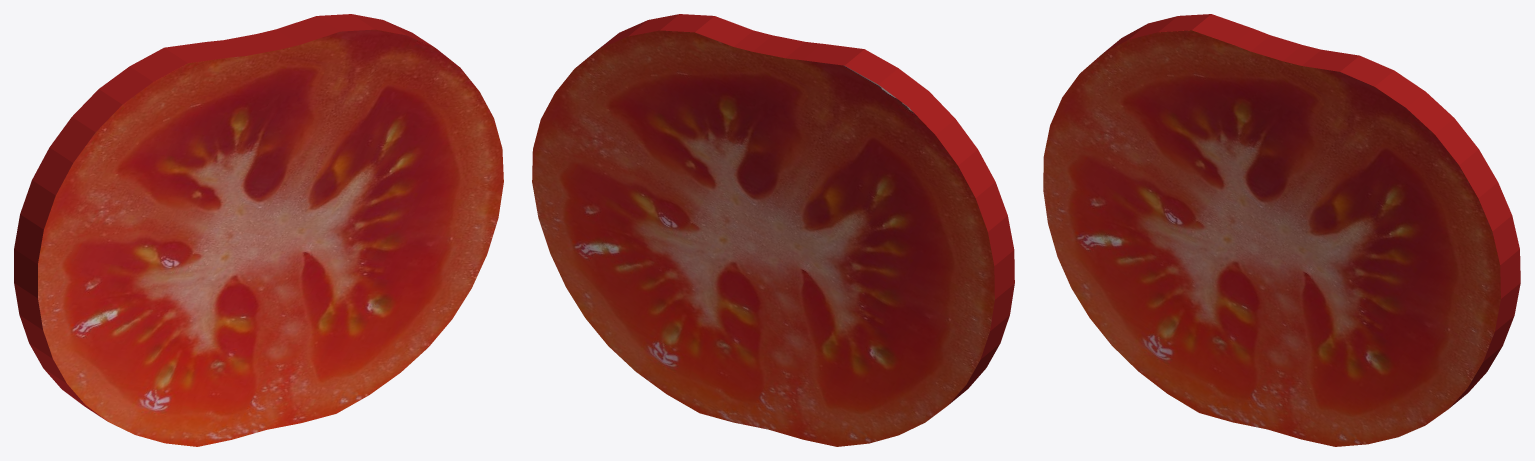
File: TomatoPieces 1.fbx
3 views of the same model, side by side, from view 1: azimuth 30°, elevation 25°; view 2: azimuth 150°, elevation 25°; view 3: azimuth 330°, elevation 25° (orthographic).
Parts seen in each view (by area): view 1: pSphere1; view 2: pSphere1; view 3: pSphere1.
Part boxes in pixels (x1,y1,x2,y2): pSphere1: (14, 14, 503, 446); pSphere1: (532, 14, 1014, 446); pSphere1: (1043, 14, 1520, 446).
Size of the model in its own units: 11.28 by 8.92 by 1.03.
